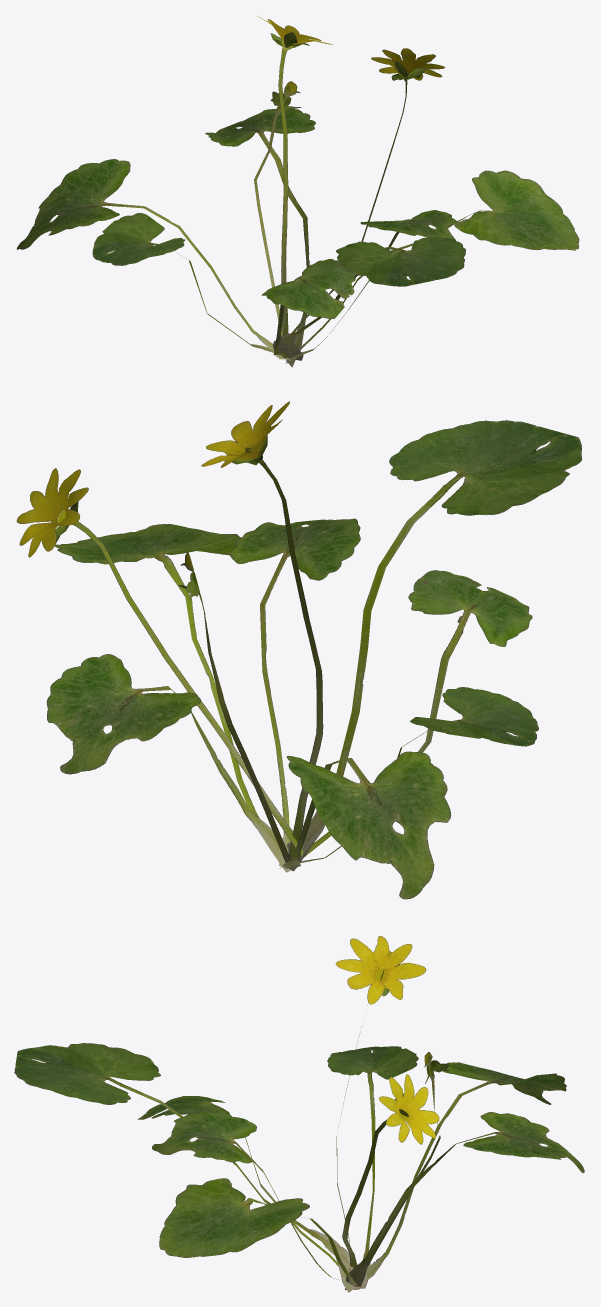
Rendered from celandine_01_d_LOD1.glb.
The picture shows the model from 3 angles, top to bottom: view 1: azimuth 30°, elevation 25°; view 2: azimuth 150°, elevation 25°; view 3: azimuth 270°, elevation 25°; orthographic projection. The views are drawn at different scales.
Visible parts, largest first — view 1: celandine_01_d_LOD1__lod0; view 2: celandine_01_d_LOD1__lod0; view 3: celandine_01_d_LOD1__lod0.
Boxes of the visible parts, left/top/right/bottom form: celandine_01_d_LOD1__lod0: left=17, top=16, right=579, bottom=367; celandine_01_d_LOD1__lod0: left=16, top=401, right=581, bottom=899; celandine_01_d_LOD1__lod0: left=14, top=936, right=584, bottom=1292.
Size of what is drawn, in the model's own units: 0.1877 by 0.1506 by 0.2196.
1 material, 1 textured.
